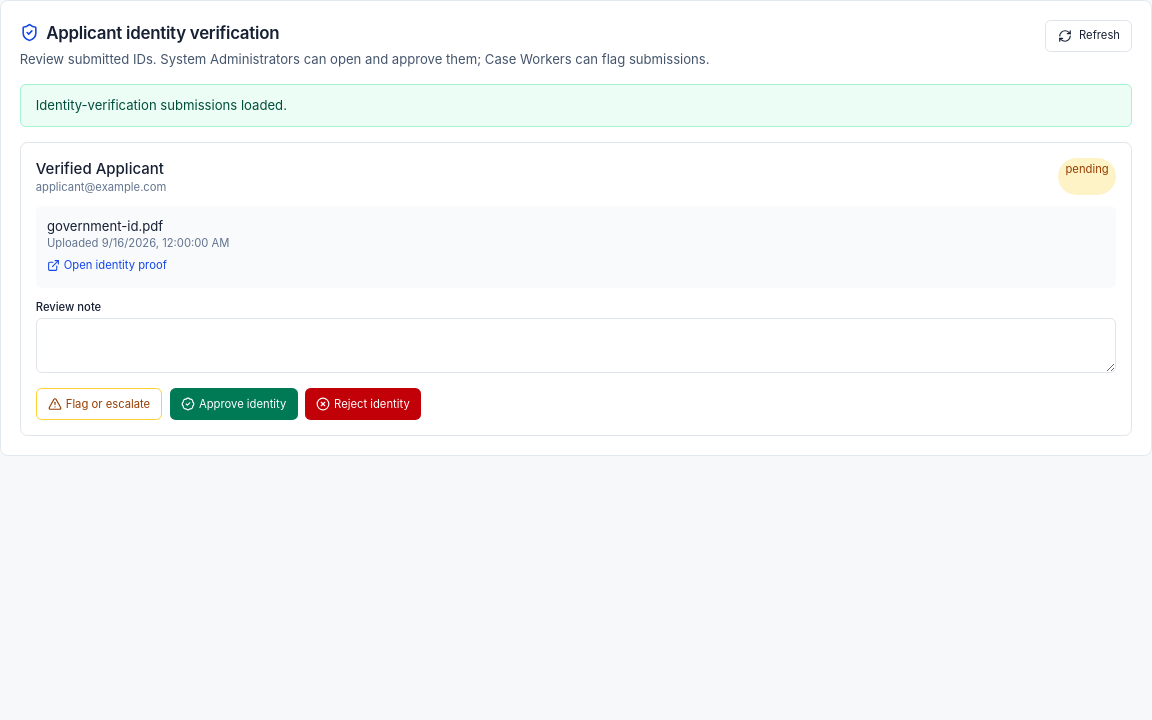
Test: ApplicantVerificationPanel protected identity proof › shows a clear unavailable error when the protected file service cannot be reached
Click the button "Open identity proof" at coordinates (107, 266), box [47, 258, 167, 273]
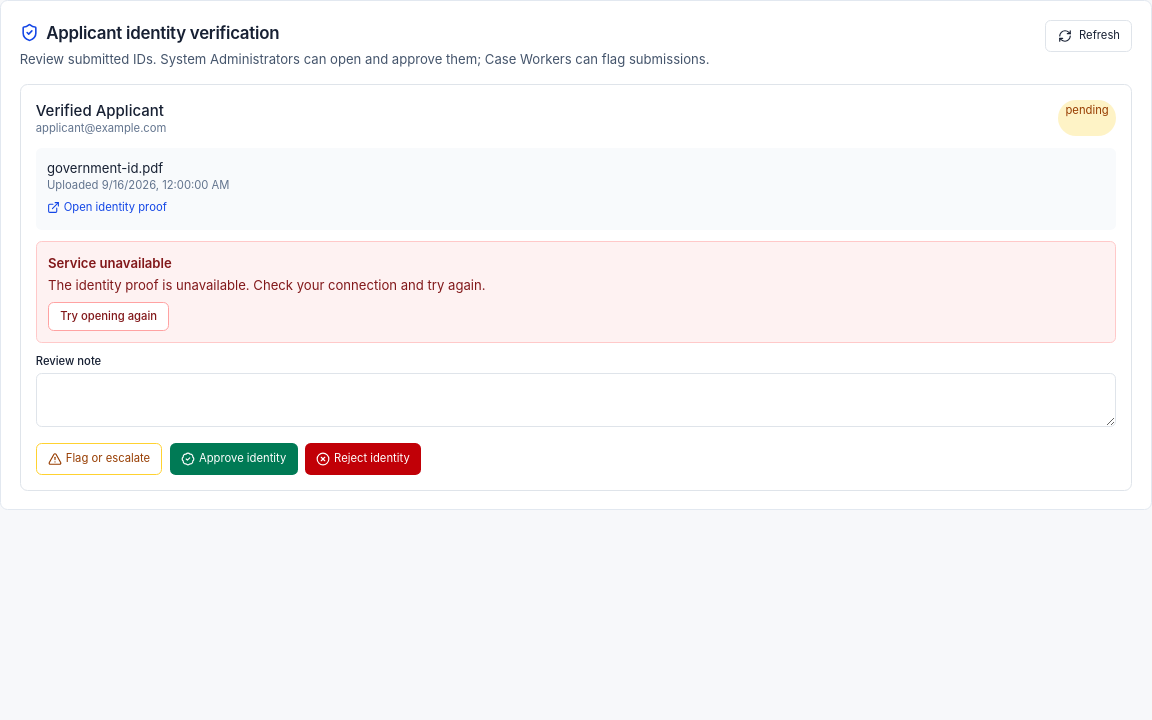
Result: the message shows "Service unavailable" at [48, 254, 172, 270]
Result: the message shows "Check your connection" at [48, 277, 486, 293]
